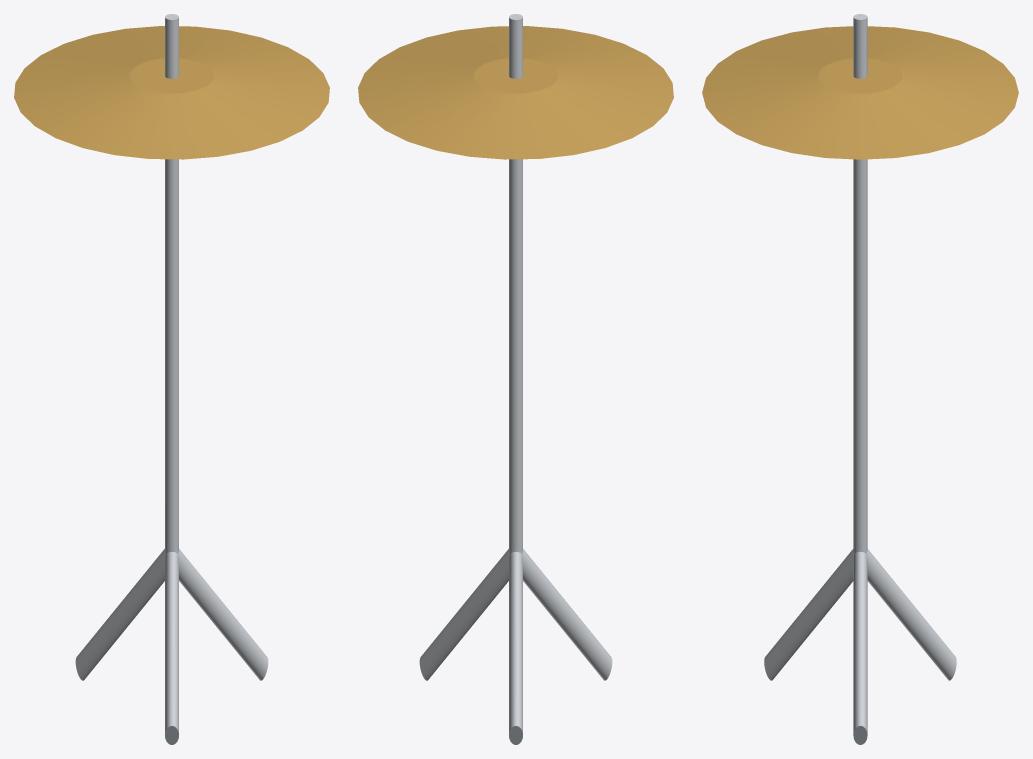
Rendered from wp-cymbale-sur-pied.glb.
3 views of the same model, side by side, from view 1: azimuth 30°, elevation 25°; view 2: azimuth 150°, elevation 25°; view 3: azimuth 270°, elevation 25° (orthographic).
Visible parts, largest first — view 1: wp-cymbale-sur-pied; view 2: wp-cymbale-sur-pied; view 3: wp-cymbale-sur-pied.
Boxes of the visible parts, box(x1,y1,x2,y2) form: wp-cymbale-sur-pied: box(14, 14, 329, 744); wp-cymbale-sur-pied: box(358, 14, 673, 744); wp-cymbale-sur-pied: box(702, 14, 1018, 744).
Bounding box in the file's own units: 0.5 × 1.19 × 0.5.
